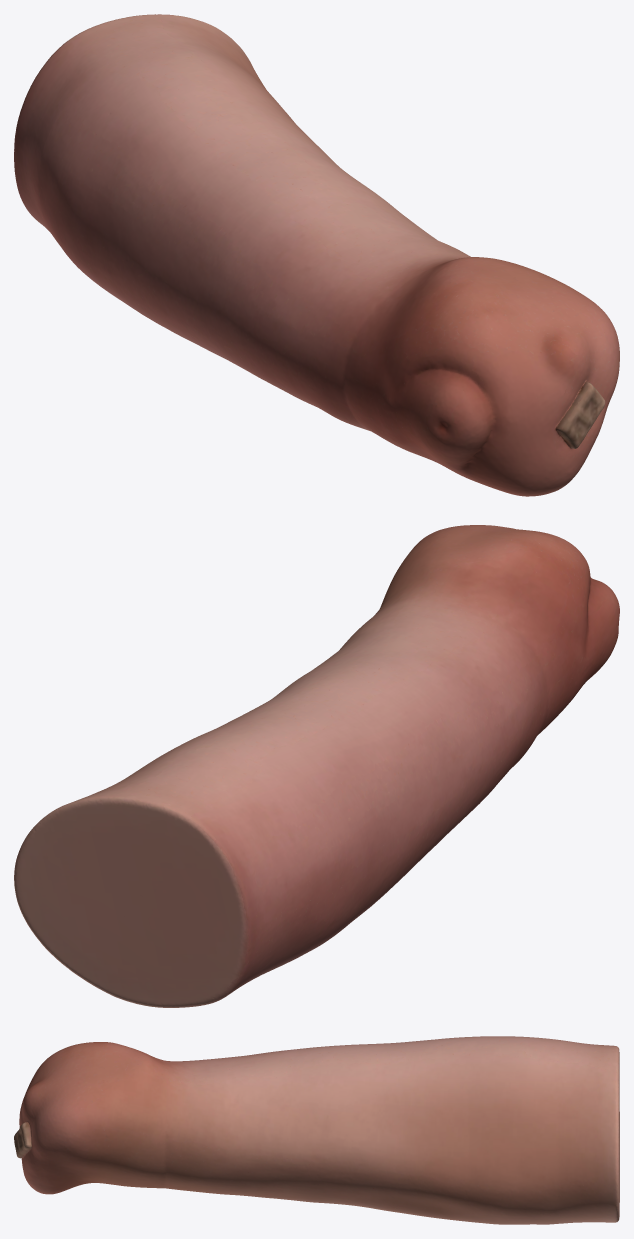
File: limb-scaled.glb
3 views of the same model, one above another, from view 1: azimuth 30°, elevation 25°; view 2: azimuth 150°, elevation 25°; view 3: azimuth 270°, elevation 25° (orthographic). The views are drawn at different scales.
Parts seen in each view (by area): view 1: geometry_0; view 2: geometry_0; view 3: geometry_0.
Boxes of the visible parts, bbox=[...] form: geometry_0: bbox=[14, 14, 619, 496]; geometry_0: bbox=[14, 525, 619, 1007]; geometry_0: bbox=[14, 1036, 619, 1224].
Bounding box in the file's own units: 0.0727 × 0.0583 × 0.2001.
1 material, 1 textured.
